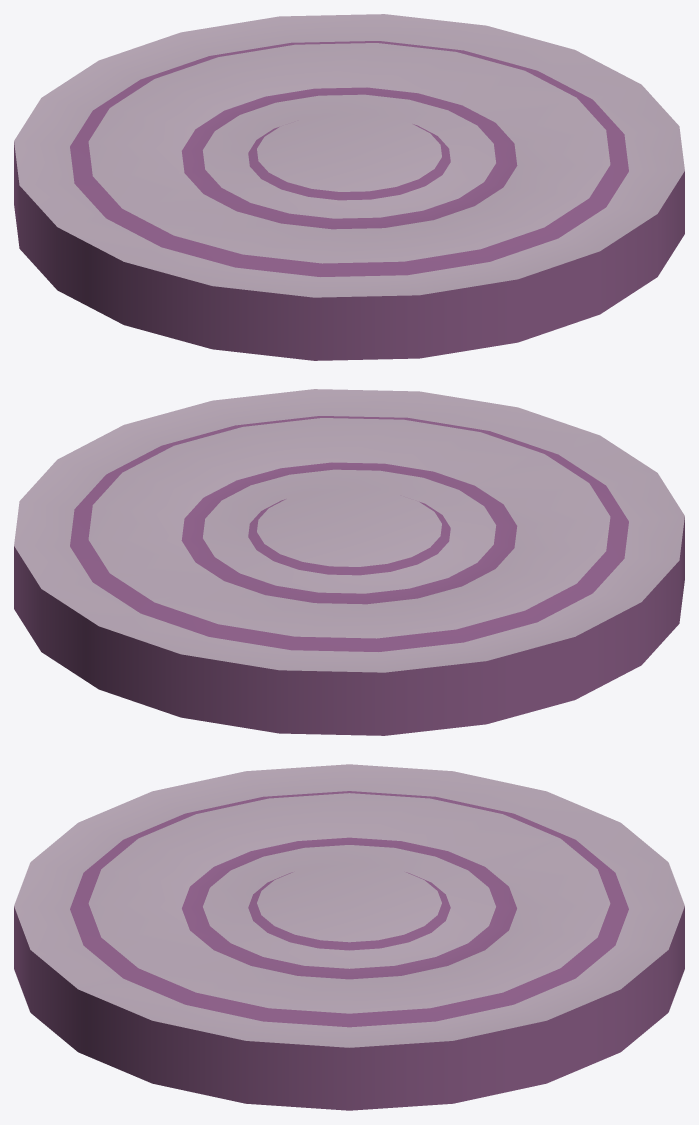
The model's file is onion.fbx.
3 views of the same model, one above another, from view 1: azimuth 30°, elevation 25°; view 2: azimuth 150°, elevation 25°; view 3: azimuth 270°, elevation 25° (orthographic).
Parts seen in each view (by area): view 1: onion; view 2: onion; view 3: onion.
Part boxes in pixels (x1,y1,x2,y2): onion: (14,14,684,360); onion: (14,389,684,735); onion: (14,764,684,1110).
Bounding box in the file's own units: 10.5 × 1.22 × 10.5.
